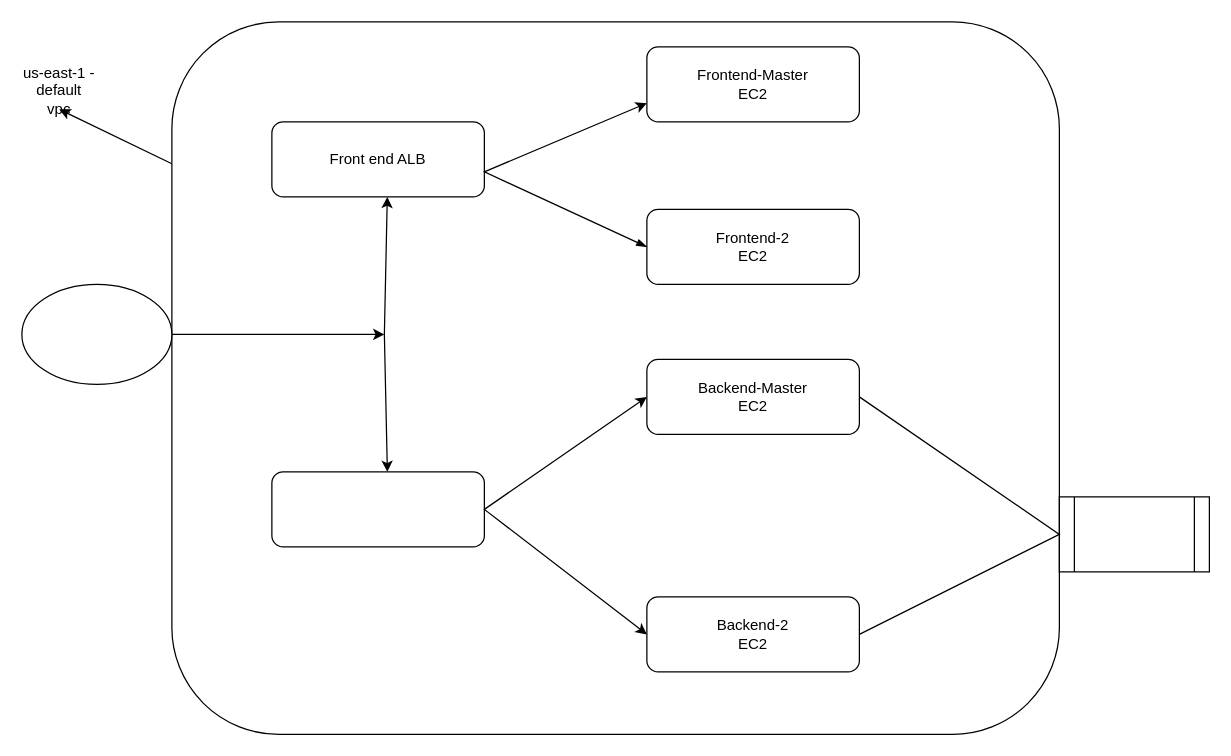
Some shapes in this 1231 by 756 pixel diagram are drawn without their labels. The centre of each missing label's shape, as x and y in pixels:
Back end ALB: point (377, 509)
Browser: point (96, 333)
MongoDB Atlas: point (1133, 534)
